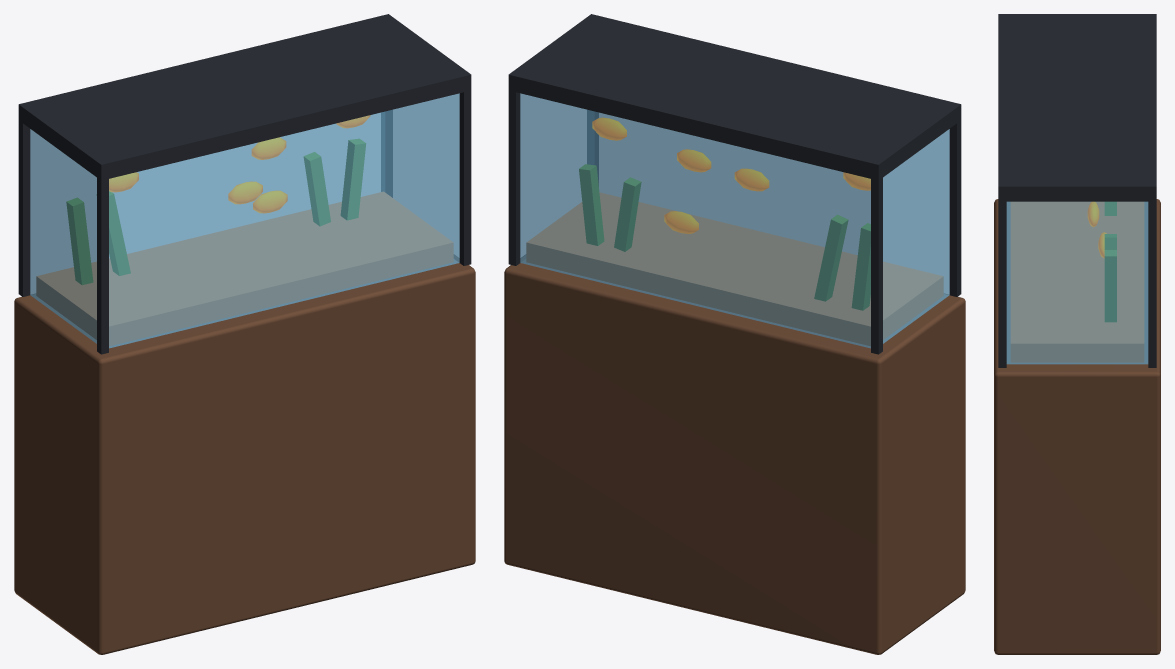
The model's file is FishTank.fbx.
The picture shows the model from 3 angles, left to right: view 1: azimuth 30°, elevation 25°; view 2: azimuth 150°, elevation 25°; view 3: azimuth 270°, elevation 25°; orthographic projection. The views are drawn at different scales.
Visible parts, largest first — view 1: FishTankBody; view 2: FishTankBody; view 3: FishTankBody.
Boxes of the visible parts, bbox=[...] form: FishTankBody: bbox=[14, 14, 475, 654]; FishTankBody: bbox=[504, 14, 965, 654]; FishTankBody: bbox=[994, 14, 1160, 654].
Size of the model in its own units: 1 by 1.24 by 0.4.
